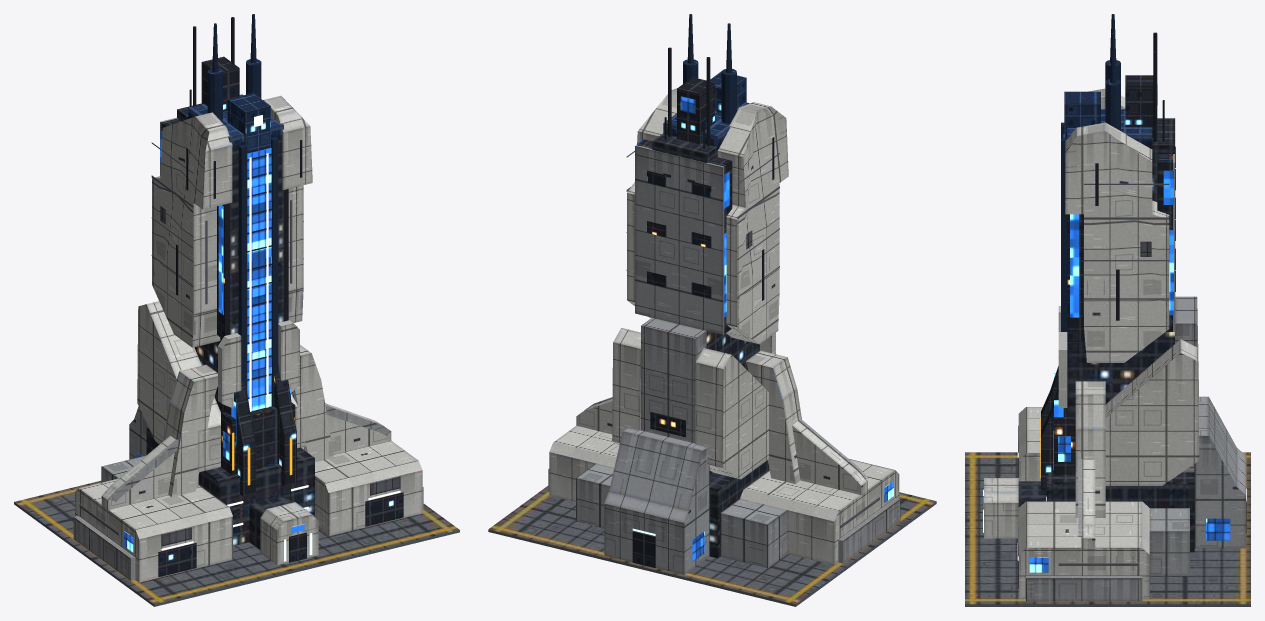
The model's file is B01_tower_textured.glb.
The picture shows the model from 3 angles, left to right: view 1: azimuth 30°, elevation 25°; view 2: azimuth 150°, elevation 25°; view 3: azimuth 270°, elevation 25°; orthographic projection.
Visible parts, largest first — view 1: B01_Tower_LP; view 2: B01_Tower_LP; view 3: B01_Tower_LP.
Boxes of the visible parts, x1,y1,x2,y2 form: B01_Tower_LP: (14, 14, 459, 606); B01_Tower_LP: (488, 14, 936, 606); B01_Tower_LP: (965, 14, 1250, 606).
Bounding box in the file's own units: 38.4 × 59.7 × 30.5.
Materials: 1 (1 with a texture image).
